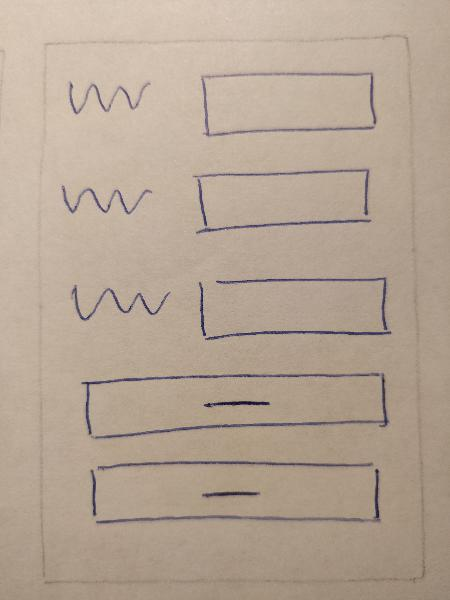button: (72, 455, 395, 529), (67, 368, 399, 438)
text: (55, 275, 176, 326), (54, 172, 164, 221), (60, 74, 160, 116)
text_input: (190, 268, 403, 346), (184, 162, 379, 237), (191, 69, 395, 140)
